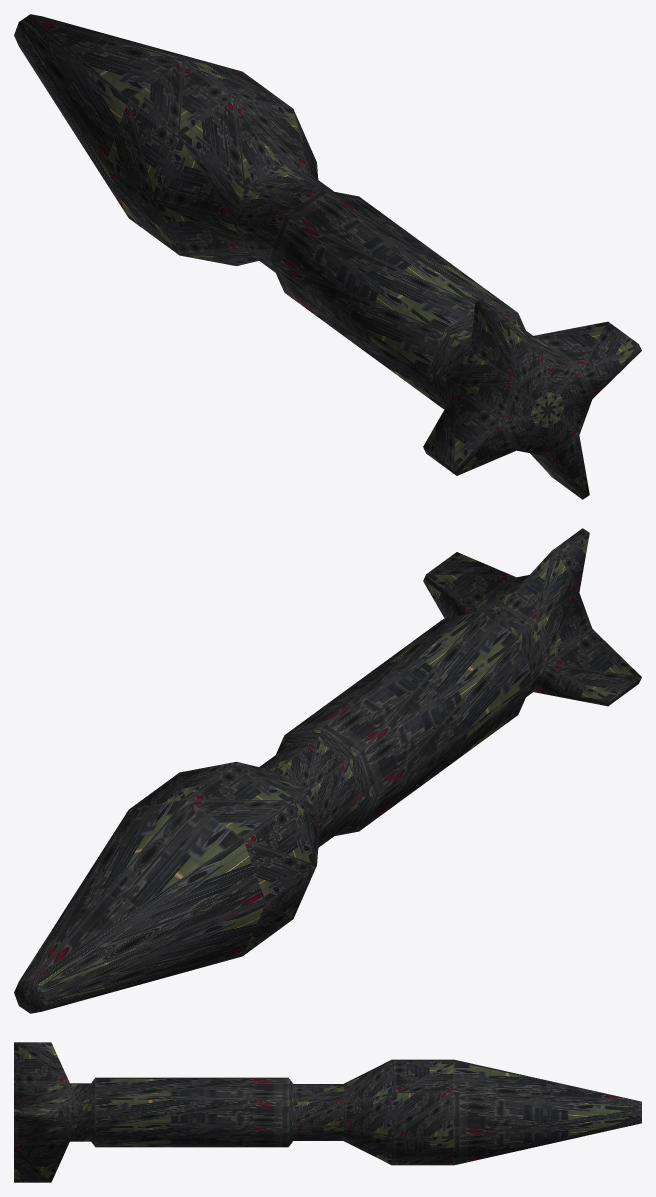
The model's file is rocketlauncher_shell2.obj.
3 views of the same model, one above another, from view 1: azimuth 30°, elevation 25°; view 2: azimuth 150°, elevation 25°; view 3: azimuth 270°, elevation 25° (orthographic). The views are drawn at different scales.
Visible parts, largest first — view 1: rocketlauncher_shell; view 2: rocketlauncher_shell; view 3: rocketlauncher_shell.
Part boxes in pixels (<box>): rocketlauncher_shell: <box>14,14,641,499</box>; rocketlauncher_shell: <box>14,528,641,1013</box>; rocketlauncher_shell: <box>14,1042,641,1182</box>.
Bounding box in the file's own units: 2.71 × 2.7 × 12.9.
Materials: 1 (1 with a texture image).
